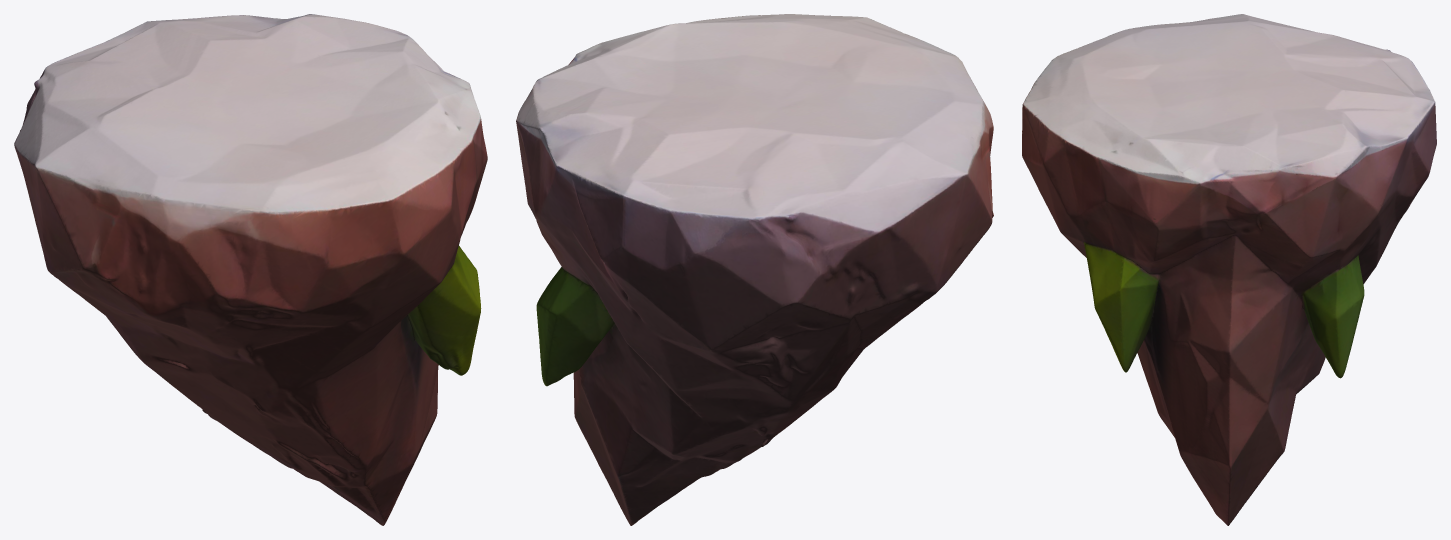
File: low-poly-rock-island.glb
3 renders of one model, left to right at view 1: azimuth 30°, elevation 25°; view 2: azimuth 150°, elevation 25°; view 3: azimuth 270°, elevation 25°, orthographic. The views are drawn at different scales.
Parts seen in each view (by area): view 1: tripo_node_5c0d163c-5fb9-4be5-a6c5-81dfb0d0888f; view 2: tripo_node_5c0d163c-5fb9-4be5-a6c5-81dfb0d0888f; view 3: tripo_node_5c0d163c-5fb9-4be5-a6c5-81dfb0d0888f.
Part boxes in pixels (x1,y1,x2,y2): tripo_node_5c0d163c-5fb9-4be5-a6c5-81dfb0d0888f: (14,14,487,525); tripo_node_5c0d163c-5fb9-4be5-a6c5-81dfb0d0888f: (516,14,993,525); tripo_node_5c0d163c-5fb9-4be5-a6c5-81dfb0d0888f: (1022,14,1436,525).
Bounding box in the file's own units: 0.9329 × 0.9998 × 0.9566.
Materials: 1 (1 with a texture image).
